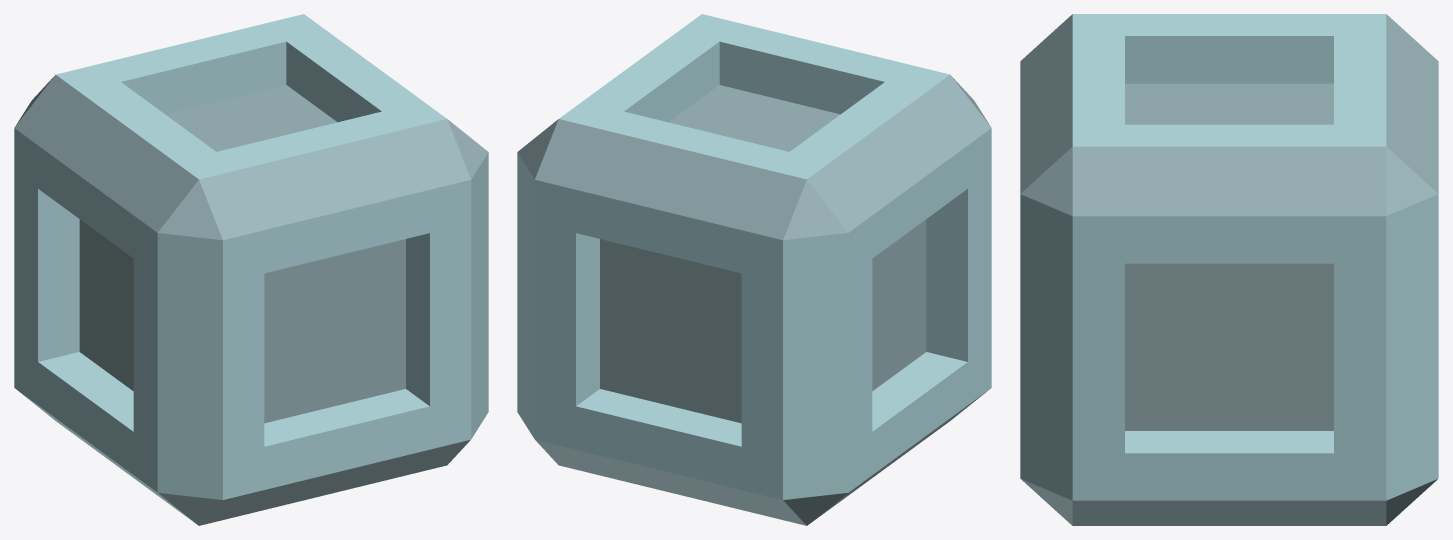
File: d_kenney_socle.glb
3 views of the same model, side by side, from view 1: azimuth 30°, elevation 25°; view 2: azimuth 150°, elevation 25°; view 3: azimuth 270°, elevation 25° (orthographic). The views are drawn at different scales.
Parts seen in each view (by area): view 1: d_kenney_socle; view 2: d_kenney_socle; view 3: d_kenney_socle.
Part boxes in pixels (x1,y1,x2,y2): d_kenney_socle: (14,14,488,525); d_kenney_socle: (517,14,991,525); d_kenney_socle: (1020,14,1438,525).
Size of the model in its own units: 0.4 by 0.4 by 0.4.
1 material, 1 textured.
